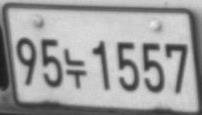1: (90, 39, 113, 91)
5: (116, 41, 140, 92), (141, 41, 164, 93), (40, 37, 63, 88)
7: (165, 42, 188, 94)
9: (14, 36, 37, 86)
누: (63, 48, 87, 88)
